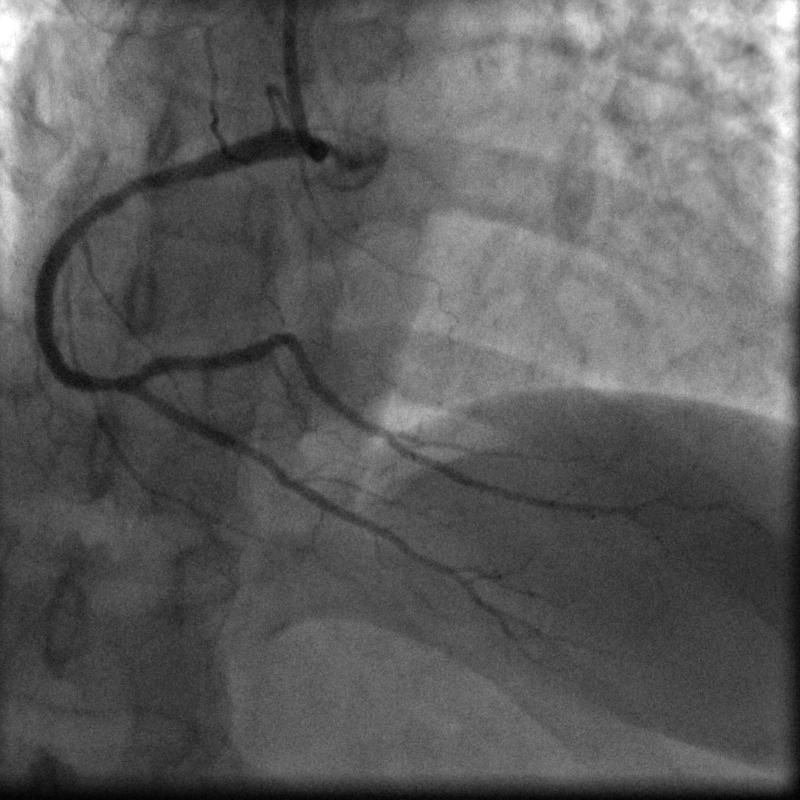Stenosis: (93, 370, 133, 397)
